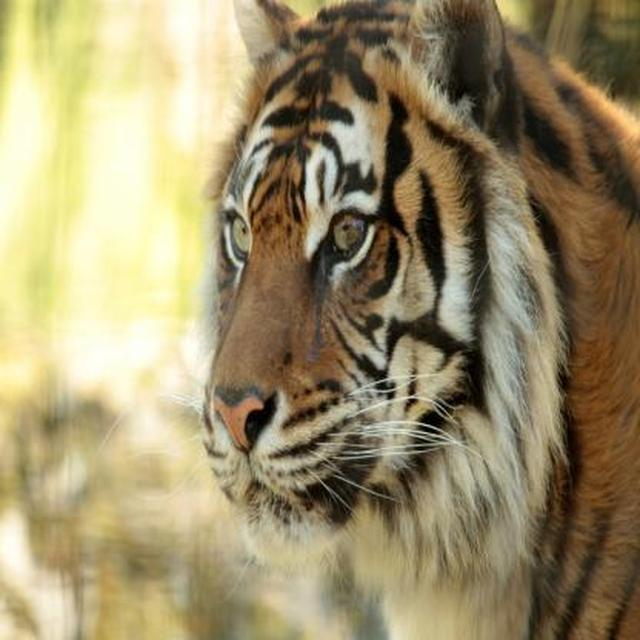tiger: (188, 0, 639, 639)
